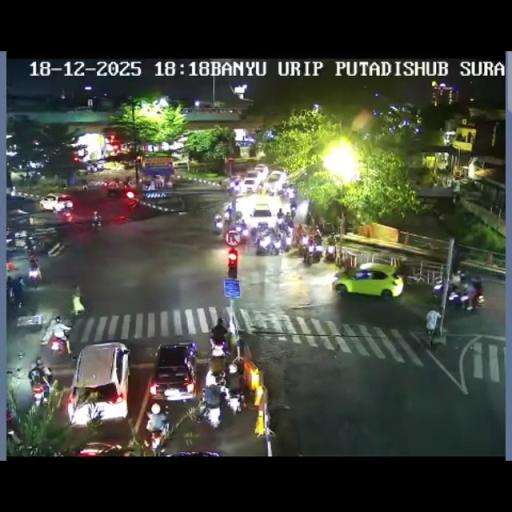Car: (68, 342, 130, 424), (148, 342, 198, 403), (333, 260, 403, 298), (142, 188, 186, 213), (72, 441, 128, 456), (250, 202, 274, 230), (39, 193, 73, 212), (264, 170, 286, 193), (106, 180, 134, 198), (242, 174, 262, 193), (253, 164, 268, 178)
Motorcycle: (194, 390, 226, 428), (145, 420, 170, 455), (29, 370, 53, 406), (203, 362, 230, 393), (430, 278, 460, 304), (47, 327, 71, 358), (224, 383, 245, 416), (208, 338, 230, 368), (424, 309, 442, 345), (6, 282, 24, 312), (463, 285, 484, 309), (6, 405, 20, 441), (254, 230, 272, 256), (70, 285, 84, 315), (306, 243, 322, 264), (26, 268, 41, 289), (232, 221, 247, 242), (270, 233, 283, 255), (324, 240, 336, 262), (281, 228, 293, 250), (297, 238, 307, 258), (277, 216, 288, 233), (213, 217, 223, 234), (90, 217, 102, 231), (313, 230, 322, 248), (25, 236, 34, 254), (29, 252, 38, 270), (250, 224, 259, 238), (222, 209, 230, 224), (233, 210, 243, 222), (228, 182, 237, 195), (86, 162, 96, 172), (290, 202, 296, 217), (276, 208, 284, 219), (114, 178, 120, 188), (82, 183, 89, 191), (102, 179, 108, 188)
